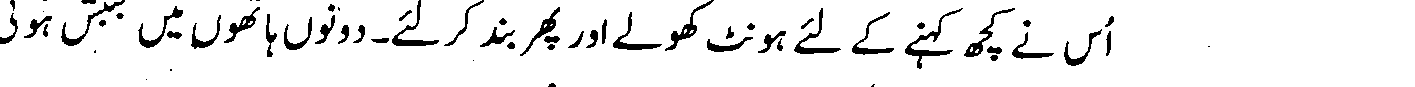bay_shosha: (504, 27, 518, 50)
